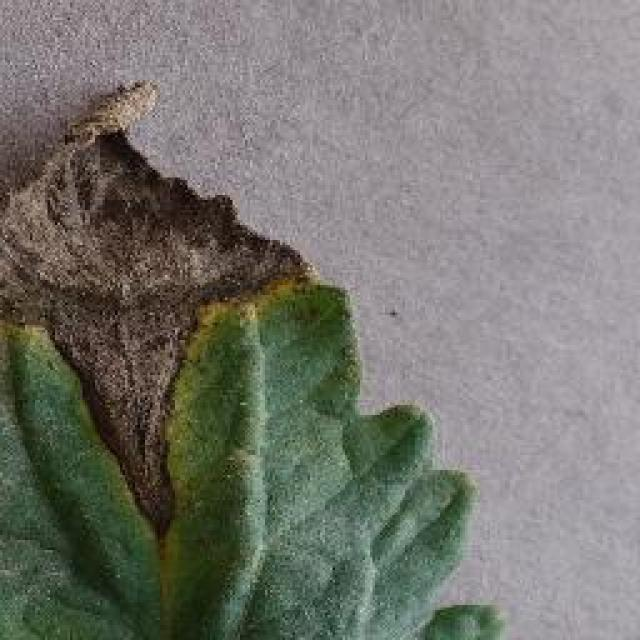Tomato Early blight leaf: (4, 83, 327, 582)
